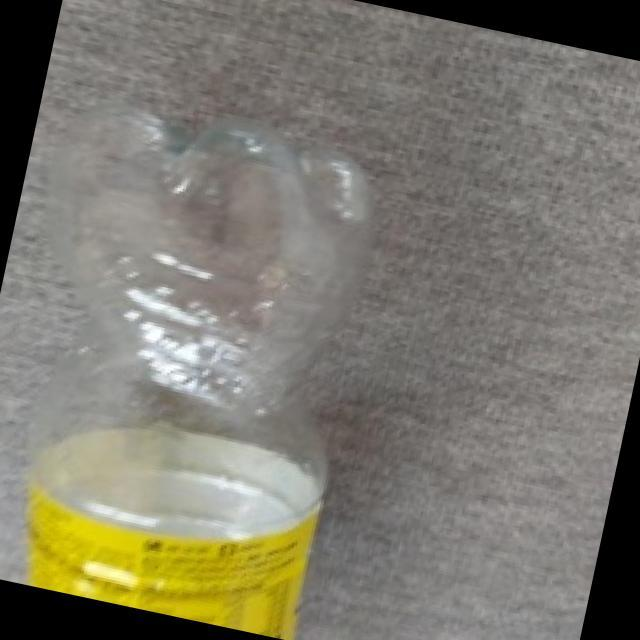good: (0, 50, 422, 640)
